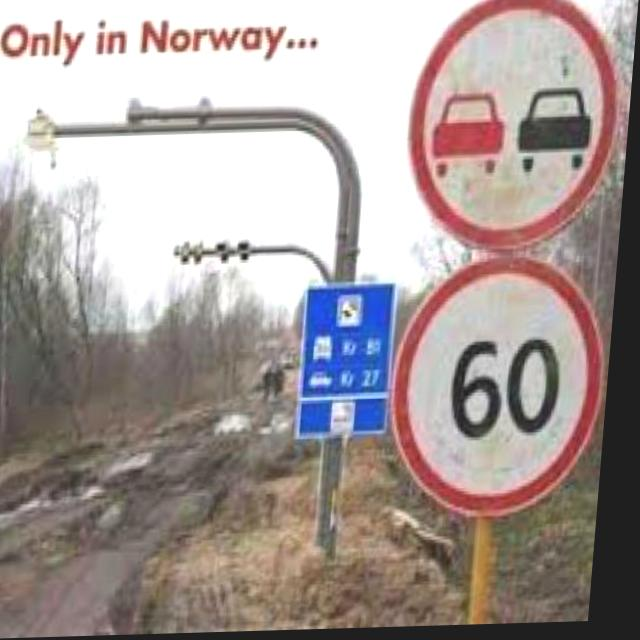limit60: (390, 250, 623, 525)
